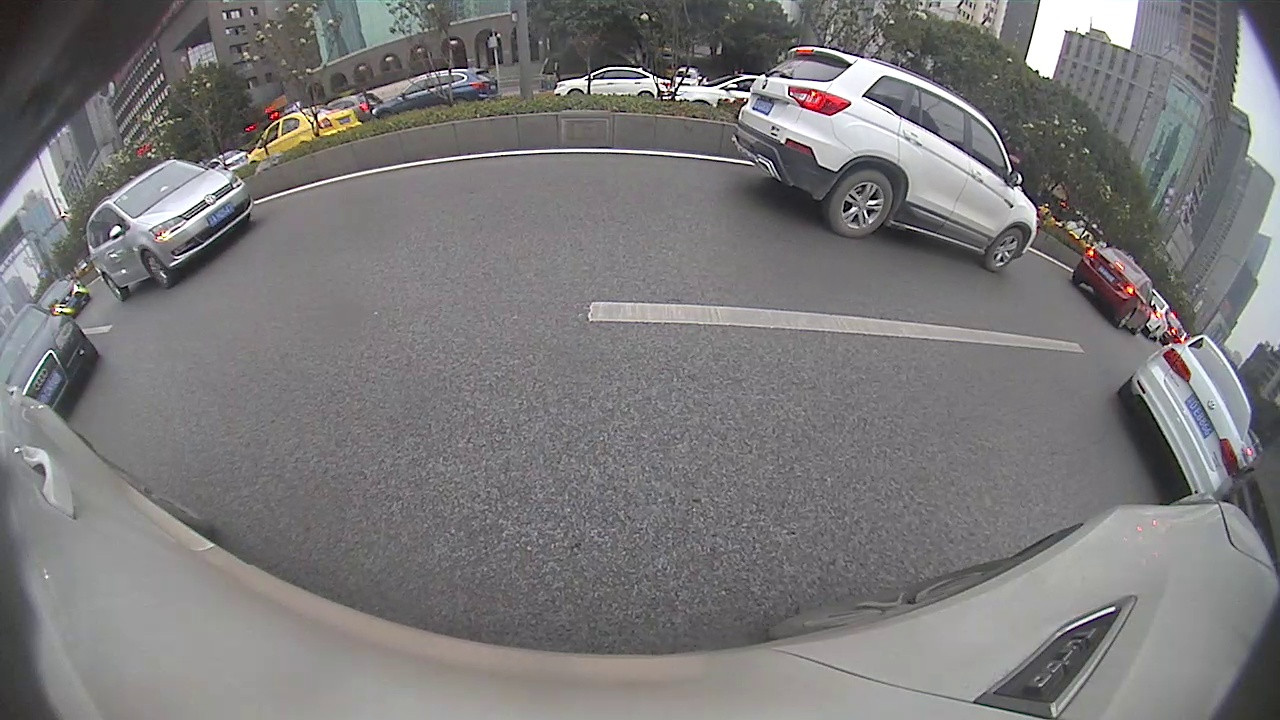car: (732, 46, 1039, 273), (85, 158, 254, 302), (1116, 332, 1253, 497), (2, 300, 95, 412), (1070, 245, 1158, 334), (553, 65, 676, 101)
front: (986, 228, 1023, 273), (142, 249, 173, 289), (377, 110, 395, 127), (567, 90, 583, 101)
rear: (828, 173, 891, 237), (101, 272, 125, 301), (636, 91, 652, 104)
